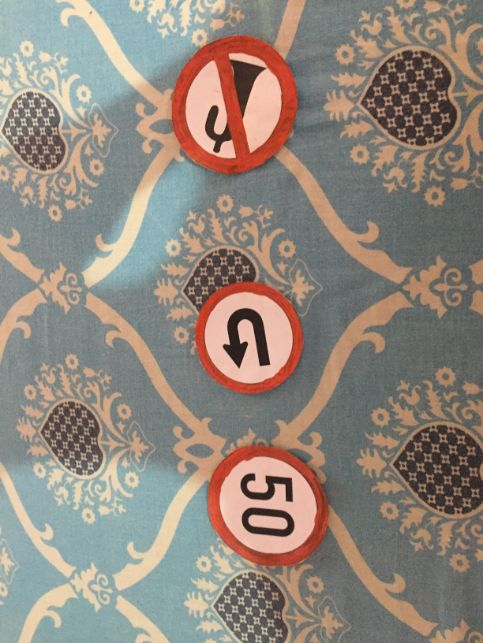no-horn: (167, 35, 303, 171)
speed-50: (207, 448, 325, 566)
u-turn: (194, 283, 303, 392)
